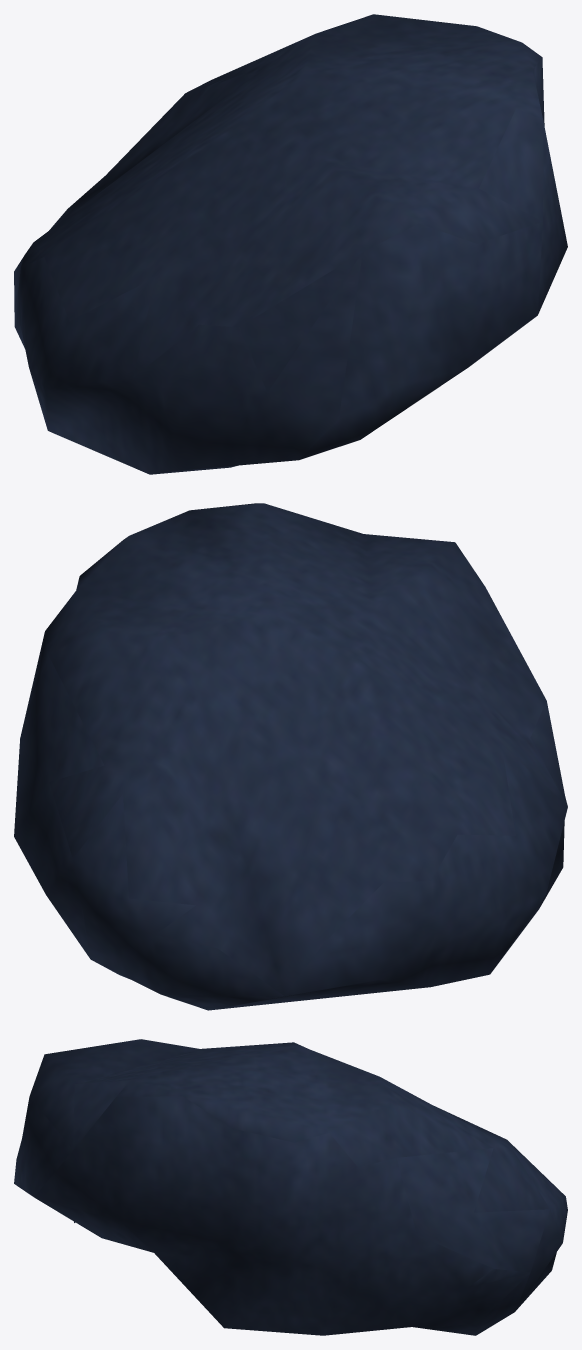
Rendered from helmet_boina.dae.
The picture shows the model from 3 angles, top to bottom: view 1: azimuth 30°, elevation 25°; view 2: azimuth 150°, elevation 25°; view 3: azimuth 270°, elevation 25°; orthographic projection. The views are drawn at different scales.
Visible parts, largest first — view 1: Mesh_0.002; view 2: Mesh_0.002; view 3: Mesh_0.002.
Part boxes in pixels (left/top/right/bottom): Mesh_0.002: left=14, top=14, right=567, bottom=474; Mesh_0.002: left=14, top=503, right=567, bottom=1010; Mesh_0.002: left=14, top=1039, right=567, bottom=1335.
Bounding box in the file's own units: 0.5508 × 0.6422 × 0.3674.
